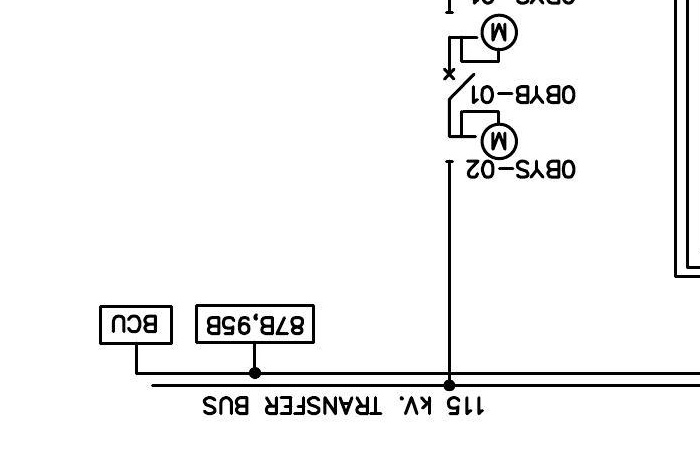115_1way_ds_w_motor: (445, 110, 519, 164), (444, 10, 519, 63)
115_breaker: (442, 67, 476, 101)
BCU: (98, 304, 174, 346)
